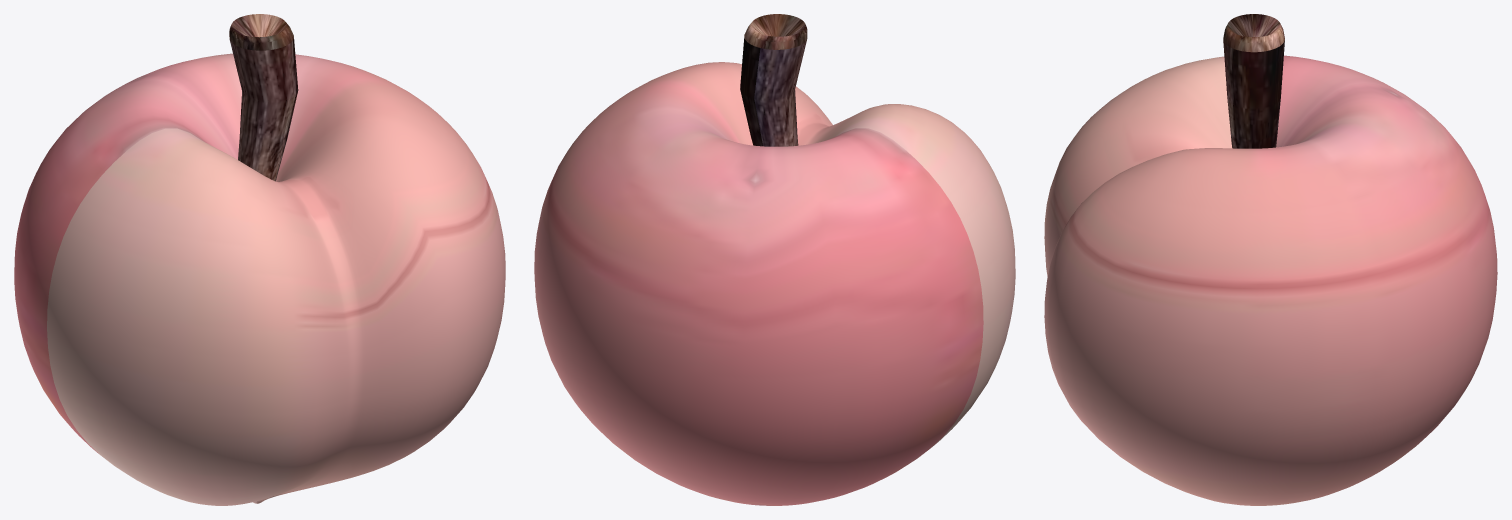
Rendered from Durazno.fbx.
3 views of the same model, side by side, from view 1: azimuth 30°, elevation 25°; view 2: azimuth 150°, elevation 25°; view 3: azimuth 270°, elevation 25° (orthographic). The views are drawn at different scales.
Visible parts, largest first — view 1: Sphere, Cylinder; view 2: Sphere, Cylinder; view 3: Sphere, Cylinder.
Boxes of the visible parts, bbox=[...] form: Sphere: bbox=[14, 53, 505, 505]; Cylinder: bbox=[229, 14, 298, 181]; Sphere: bbox=[534, 62, 1015, 505]; Cylinder: bbox=[740, 14, 807, 146]; Sphere: bbox=[1044, 55, 1497, 505]; Cylinder: bbox=[1223, 14, 1284, 148].
Size of the model in its own units: 2864 by 3092 by 2694.
2 materials, 2 textured.
